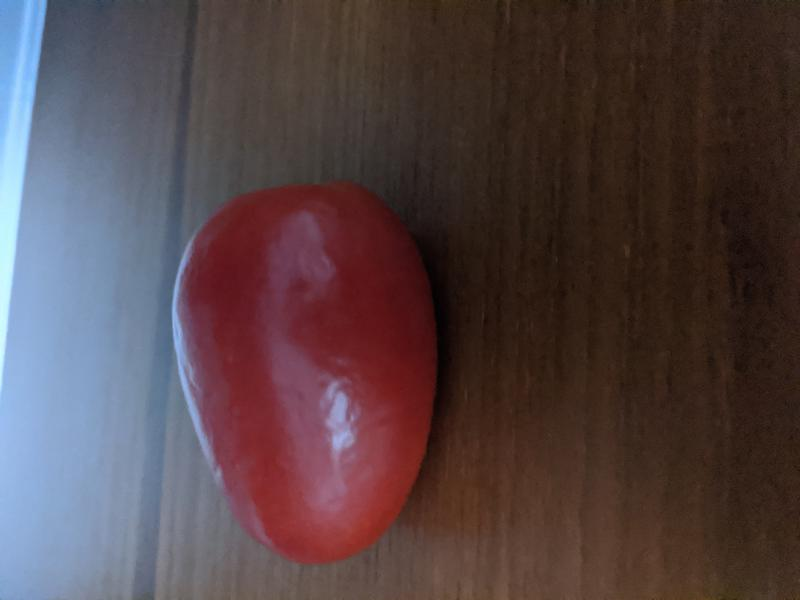tomato: (170, 180, 440, 564)
